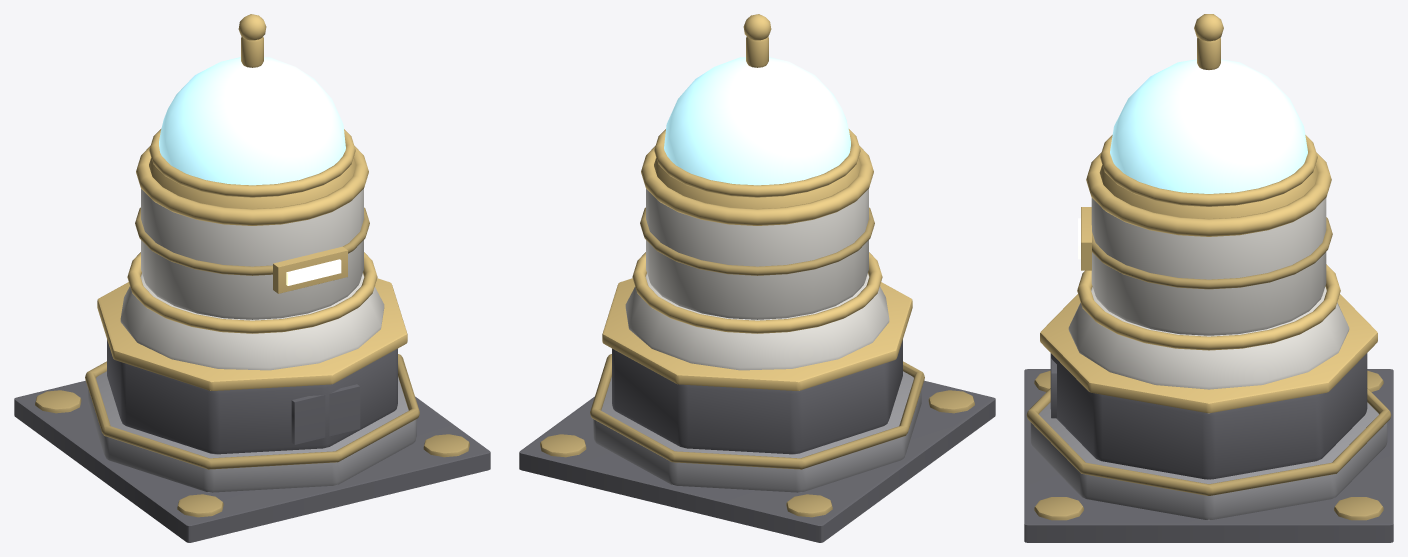
File: hp_room_museum_cloche_dome.glb
3 views of the same model, side by side, from view 1: azimuth 30°, elevation 25°; view 2: azimuth 150°, elevation 25°; view 3: azimuth 270°, elevation 25° (orthographic). The views are drawn at different scales.
Parts seen in each view (by area): view 1: room_museum_cloche_dome; view 2: room_museum_cloche_dome; view 3: room_museum_cloche_dome.
Part boxes in pixels (x1,y1,x2,y2): room_museum_cloche_dome: (14,14,490,542); room_museum_cloche_dome: (519,14,995,542); room_museum_cloche_dome: (1024,14,1393,542).
Bounding box in the file's own units: 0.74 × 0.995 × 0.74.
